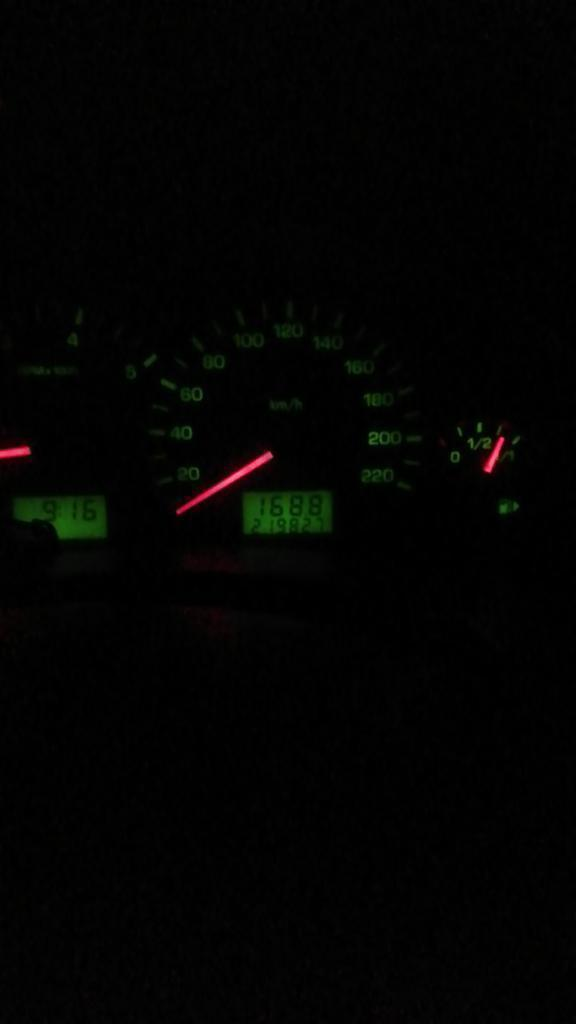,: (303, 511, 308, 517)
1: (258, 493, 266, 516), (268, 518, 275, 533)
2: (250, 517, 261, 534), (301, 517, 312, 533)
6: (270, 494, 283, 517)
7: (314, 517, 326, 533)
8: (289, 493, 303, 516), (308, 493, 322, 515), (289, 517, 299, 533)
9: (275, 518, 286, 533)
odometer: (242, 489, 333, 536)
